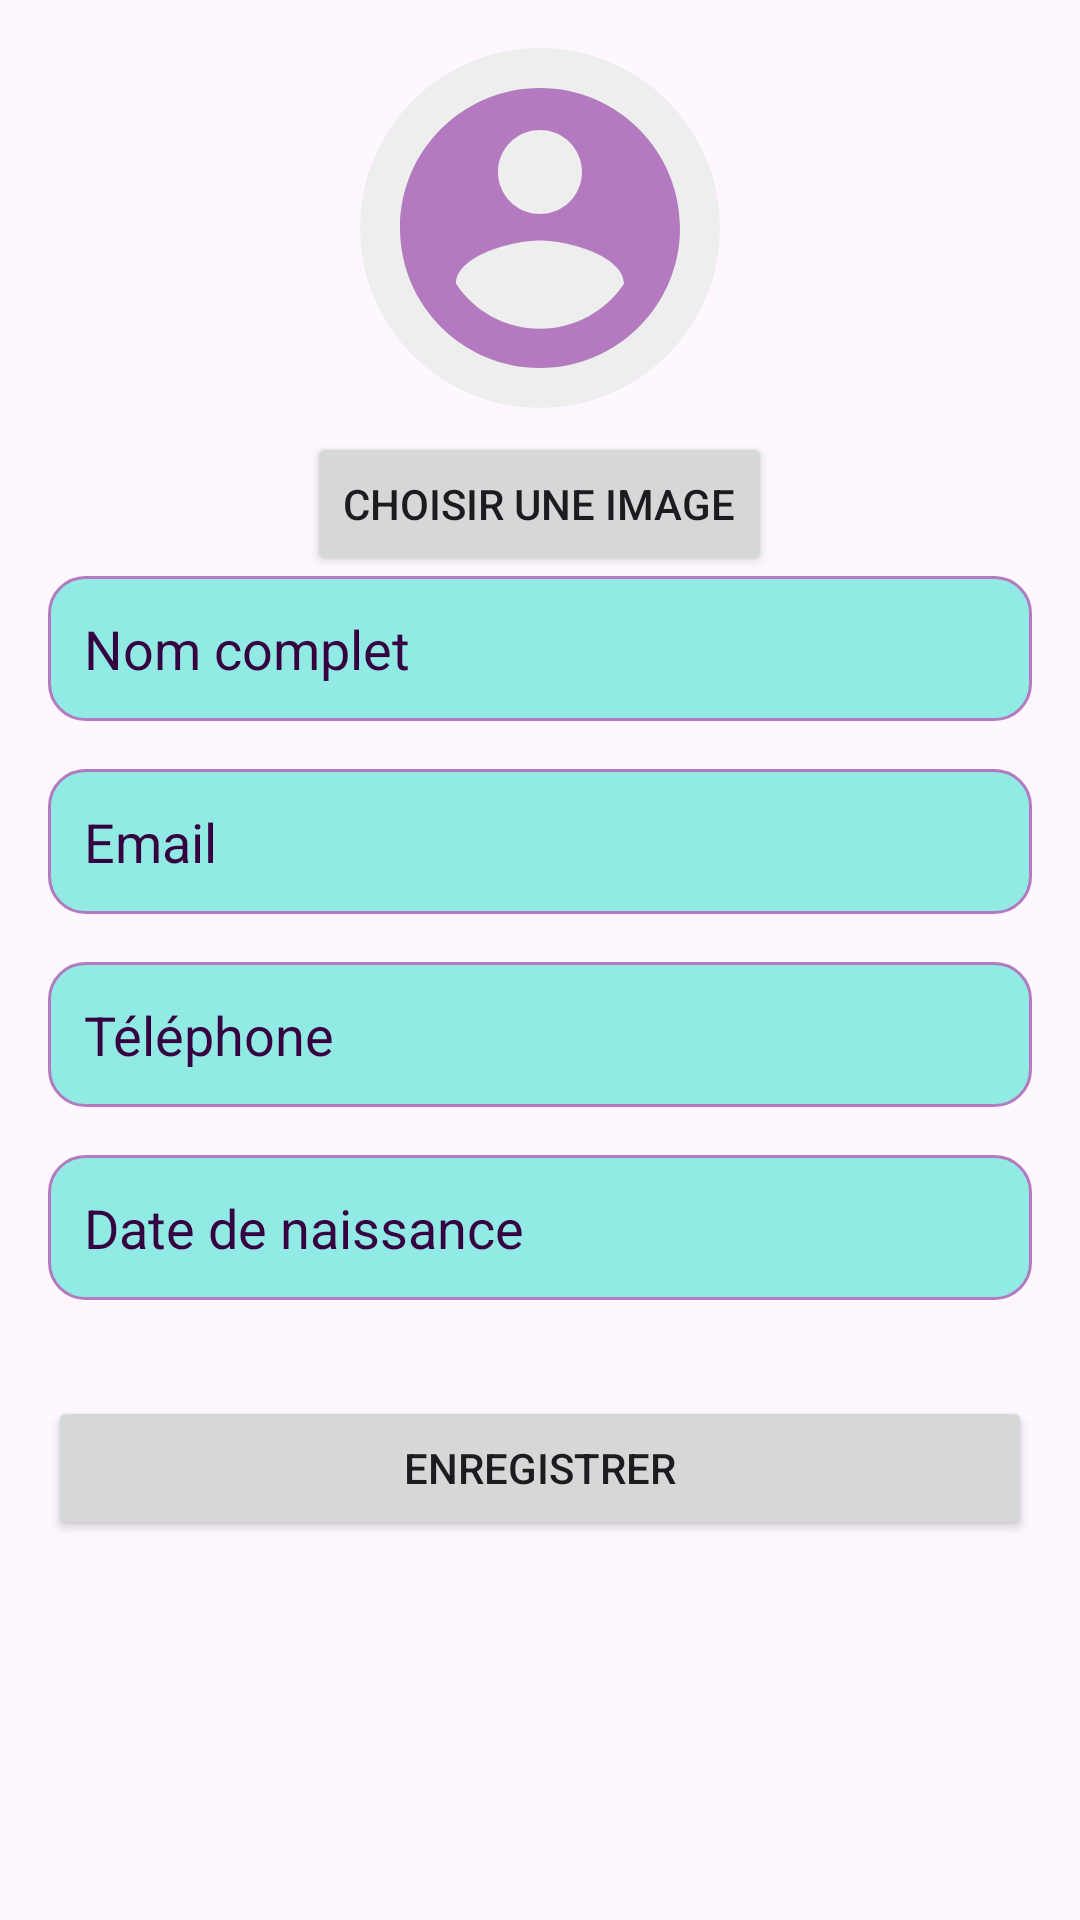

Screen size 1080px x 1920px. Icon name, then its box in pixels as {"left": x1, "top": y1, "right": x2, "bottom": y2}:
profile: {"left": 400, "top": 88, "right": 680, "bottom": 368}
